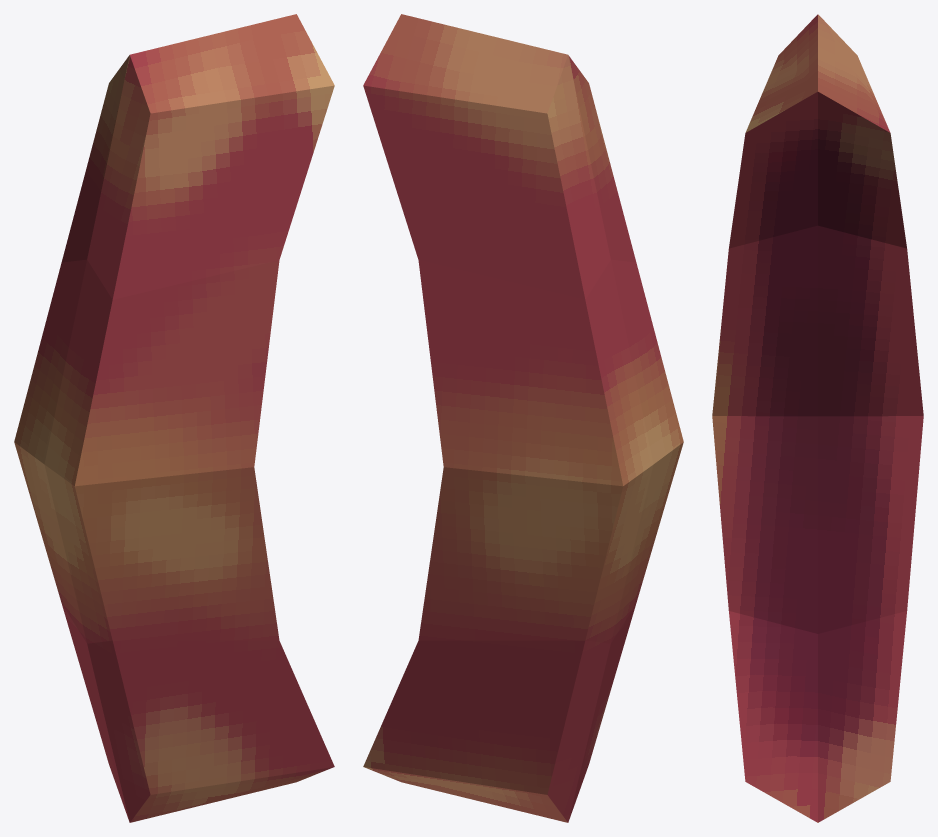
File: swordProjectile.glb
3 renders of one model, left to right at view 1: azimuth 30°, elevation 25°; view 2: azimuth 150°, elevation 25°; view 3: azimuth 270°, elevation 25°, orthographic. The views are drawn at different scales.
Visible parts, largest first — view 1: Cube; view 2: Cube; view 3: Cube.
Boxes of the visible parts, x1,y1,x2,y2 form: Cube: (14, 14, 334, 822); Cube: (363, 14, 683, 822); Cube: (712, 14, 923, 822).
Size of the model in its own units: 0.3912 by 1.14 by 0.2984.
Materials: 1 (1 with a texture image).
